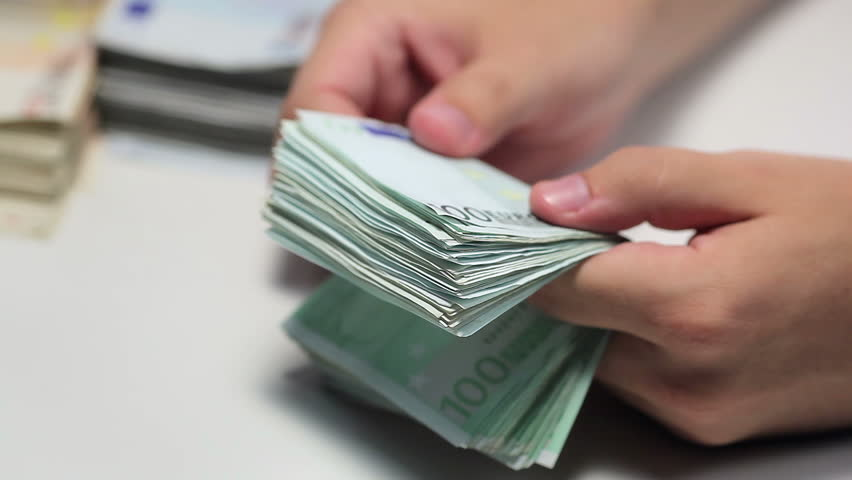billete: (259, 106, 632, 471)
